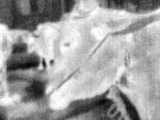eye: (61, 39, 76, 50)
